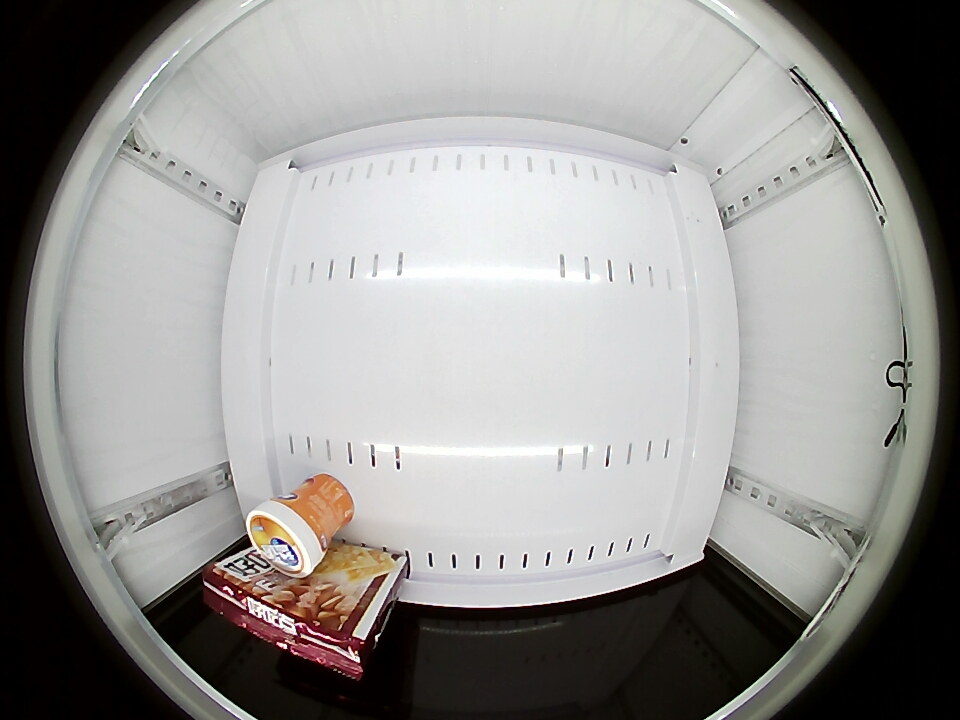haochidian: (203, 565, 373, 675)
